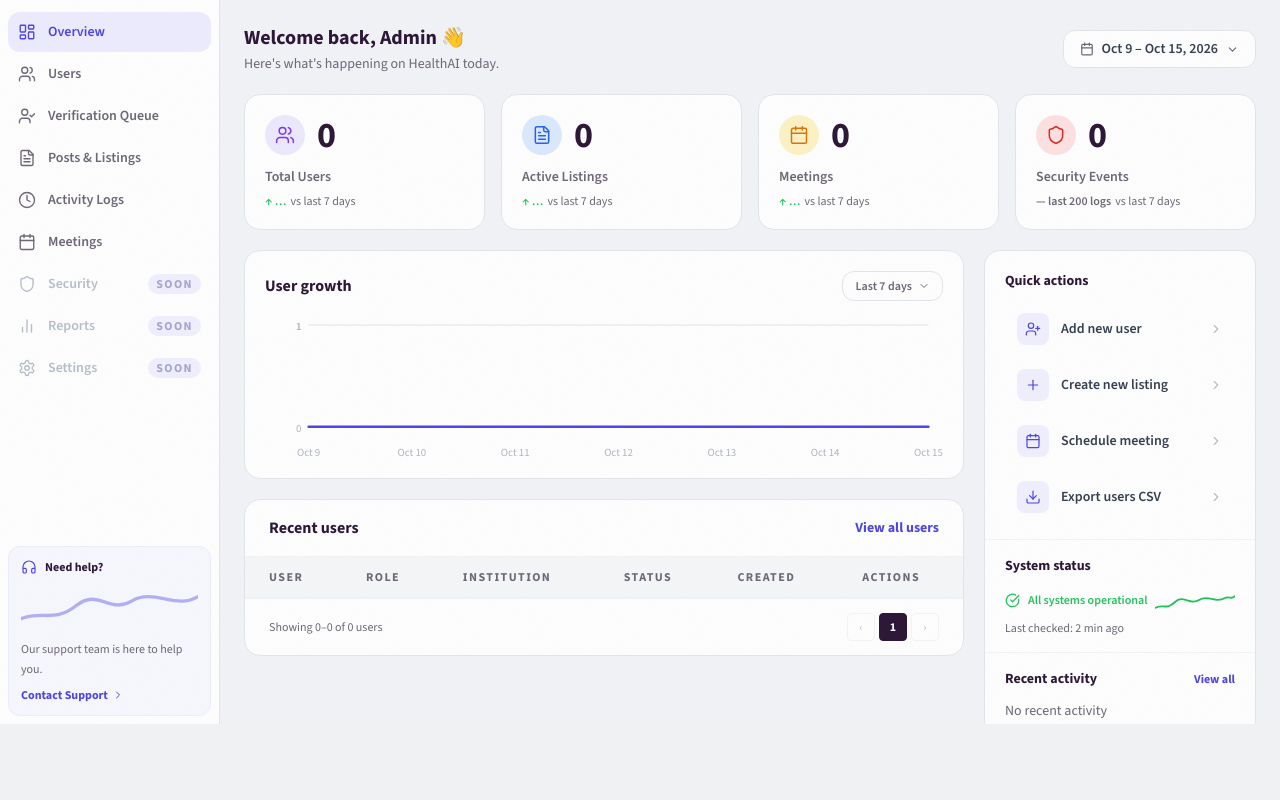
Scenario: admin lists use the server › shows the real number of posts, not the 100 the list used to stop at
Click the button "Posts & Listings" at (110, 158), box [8, 138, 211, 178]
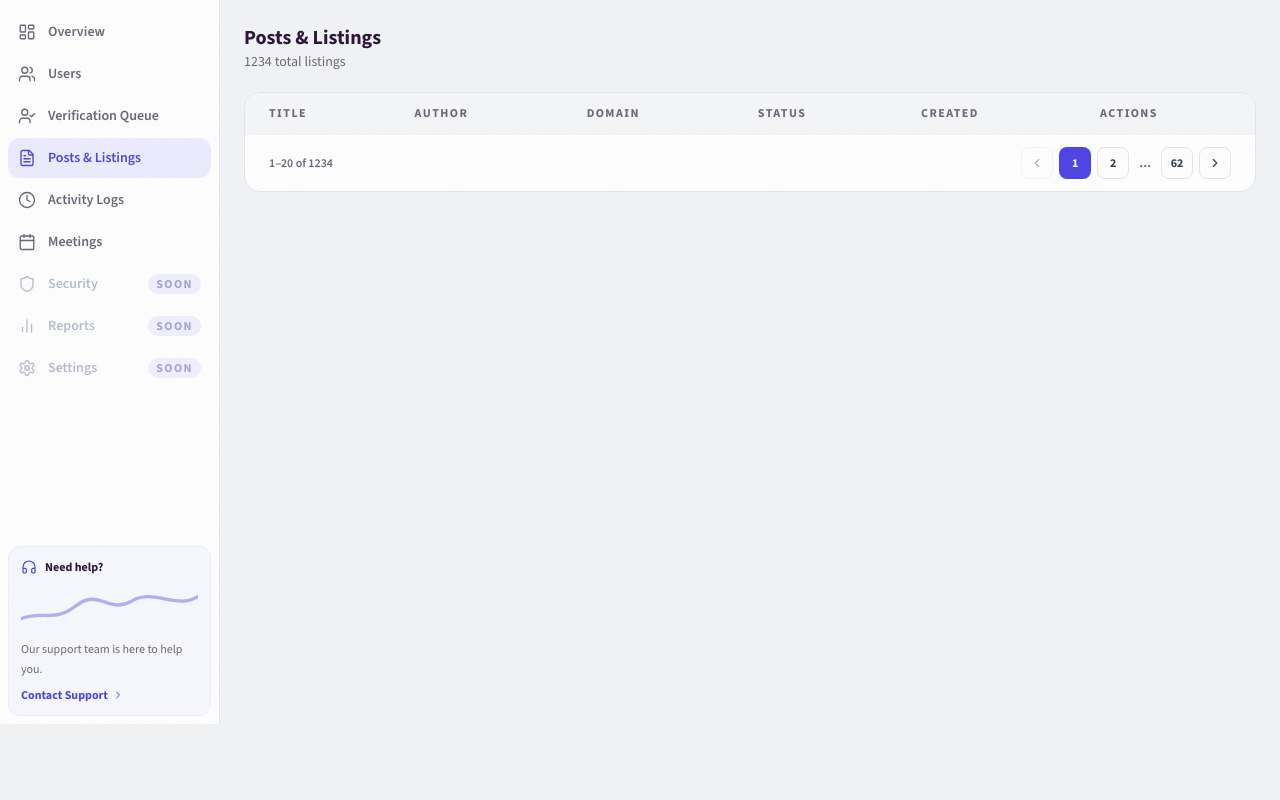
Result: the text "1234 total listings" is shown at [244, 52, 346, 71]
